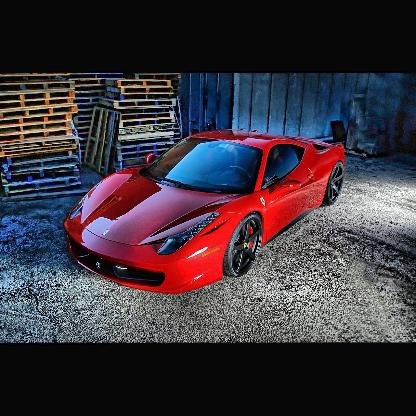Ferrari 458 Italia Coupe 2012: (67, 126, 347, 304)
